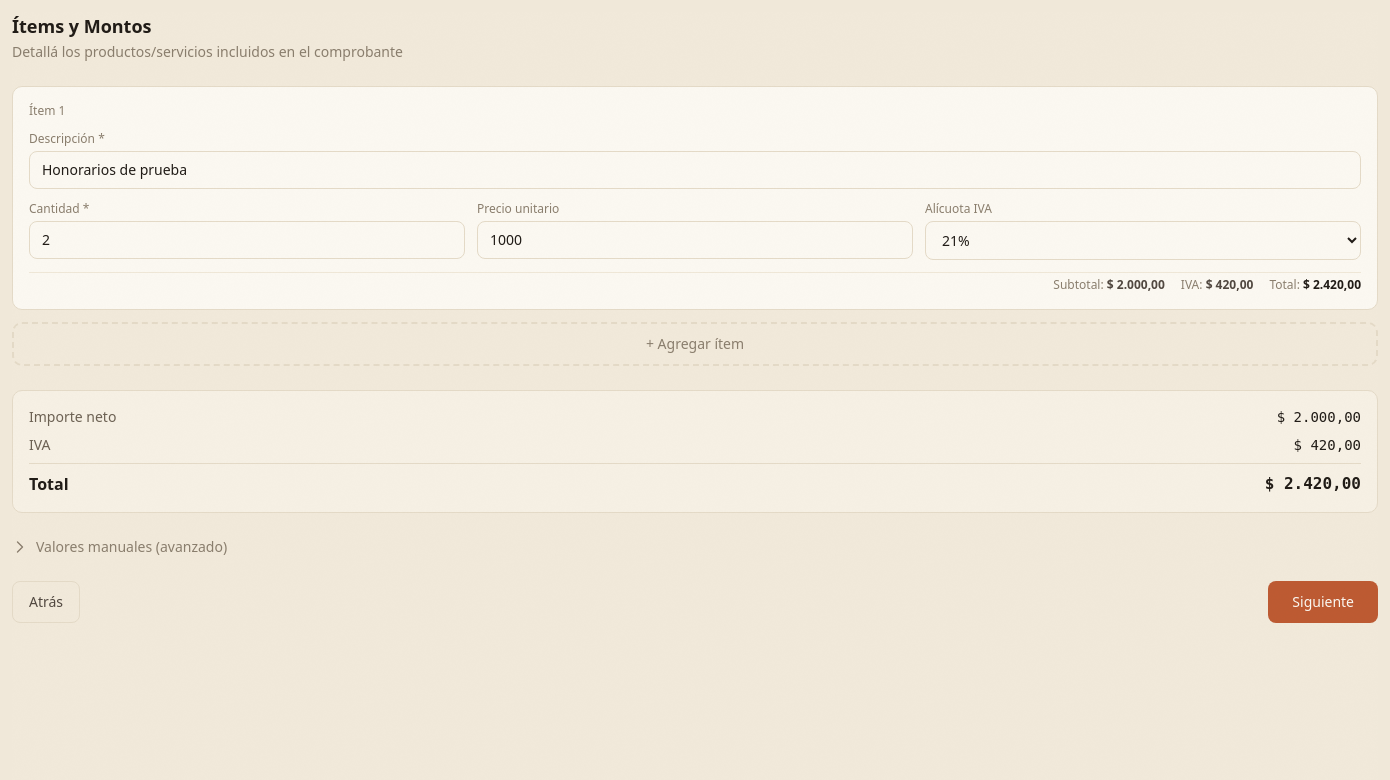
Scenario: StepItems › recalcula al editar cantidad, precio y alícuota
The width and height of the screenshot is (1390, 780).
Replace the text in the number field labelled "Cantidad *" with "3" at (247, 240), box [29, 221, 465, 259]
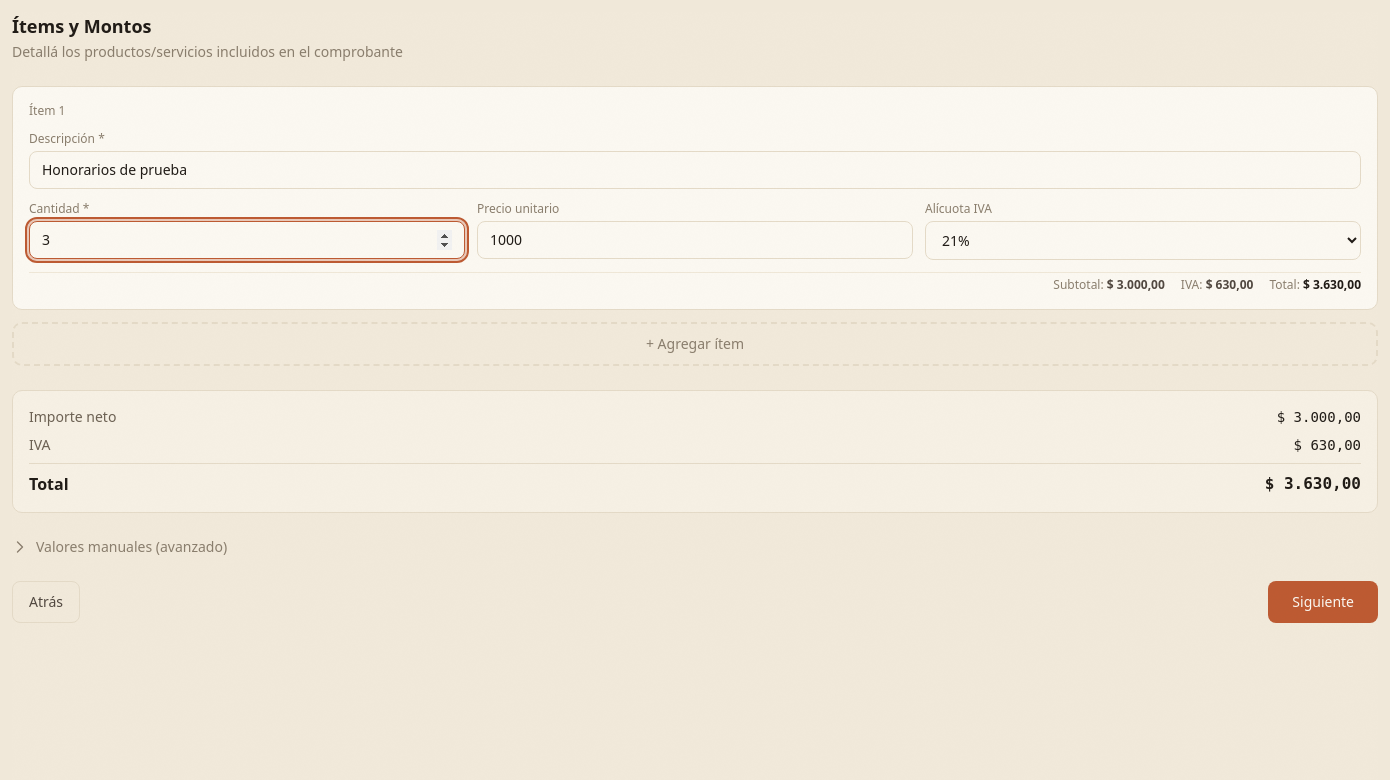
Check: the text "Subtotal: $ 3.000,00" is shown, box [1053, 277, 1165, 293]
Replace the text in the number field labelled "Precio unitario" with "100" at (695, 240), box [477, 221, 913, 259]
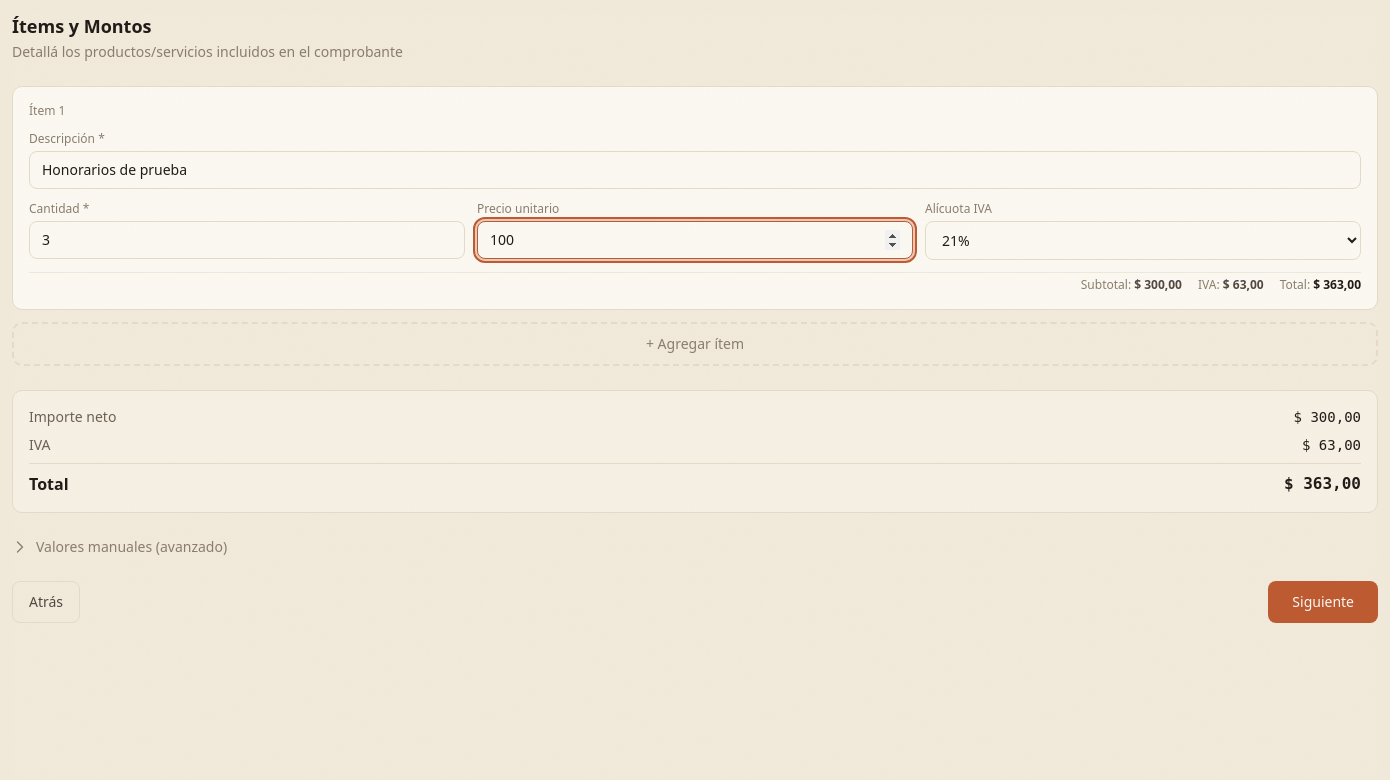
Check: the text "Subtotal: $ 300,00" is shown, box [1081, 277, 1182, 293]
Select "10.5%" in the dropdown labelled "Alícuota IVA" at (1143, 240), box [925, 221, 1361, 260]
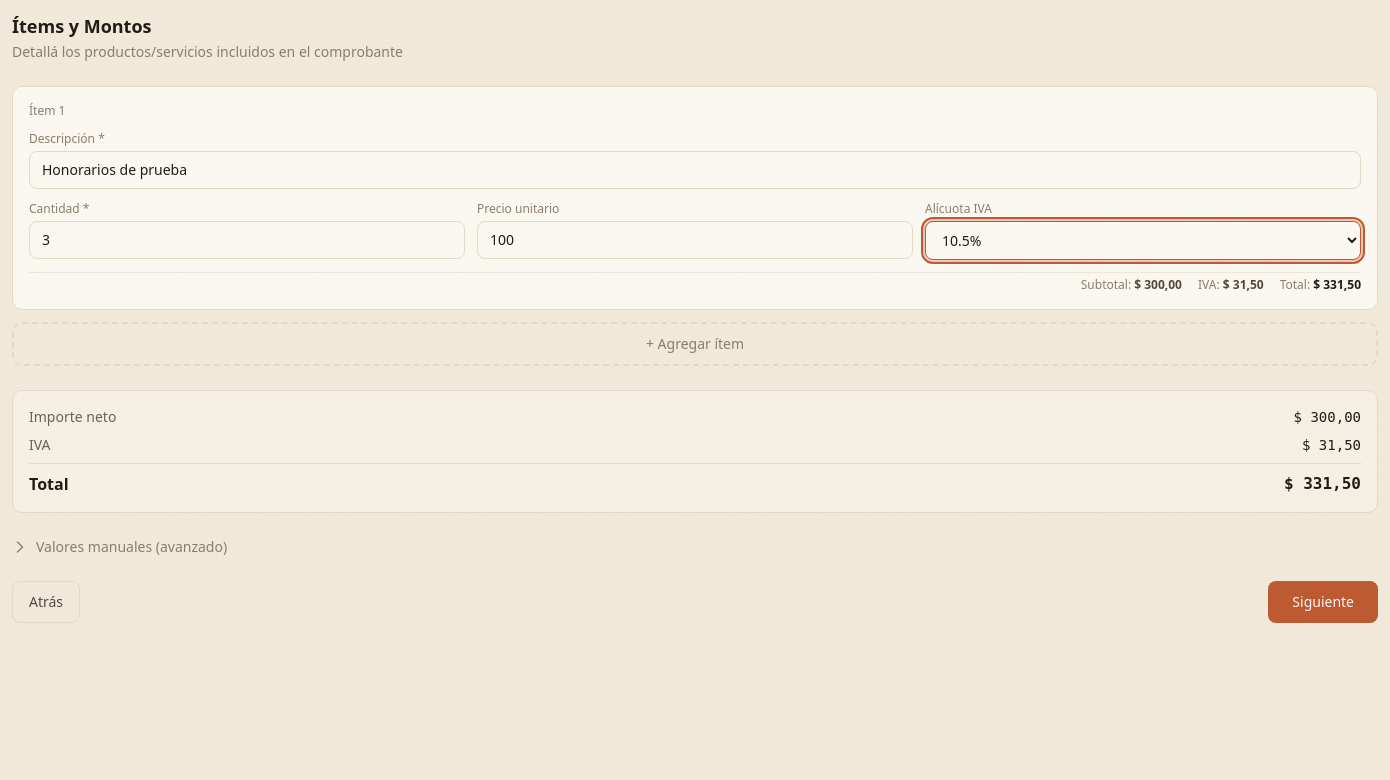
Check: the text "IVA: $ 31,50" is shown, box [1198, 277, 1264, 293]
